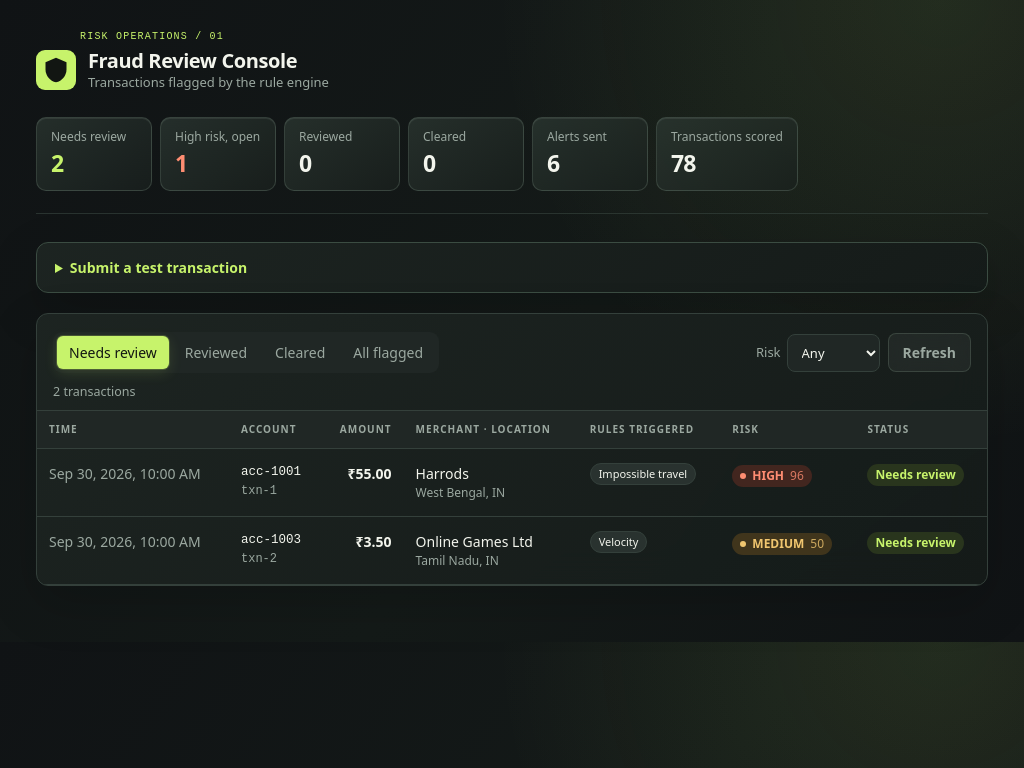
Test: App › submits a test transaction and reports the verdict
Expected: the text "Harrods" is shown, [416, 464, 469, 483]
Click the heading "Submit a test transaction". click: (158, 268)
box: [70, 258, 247, 277]
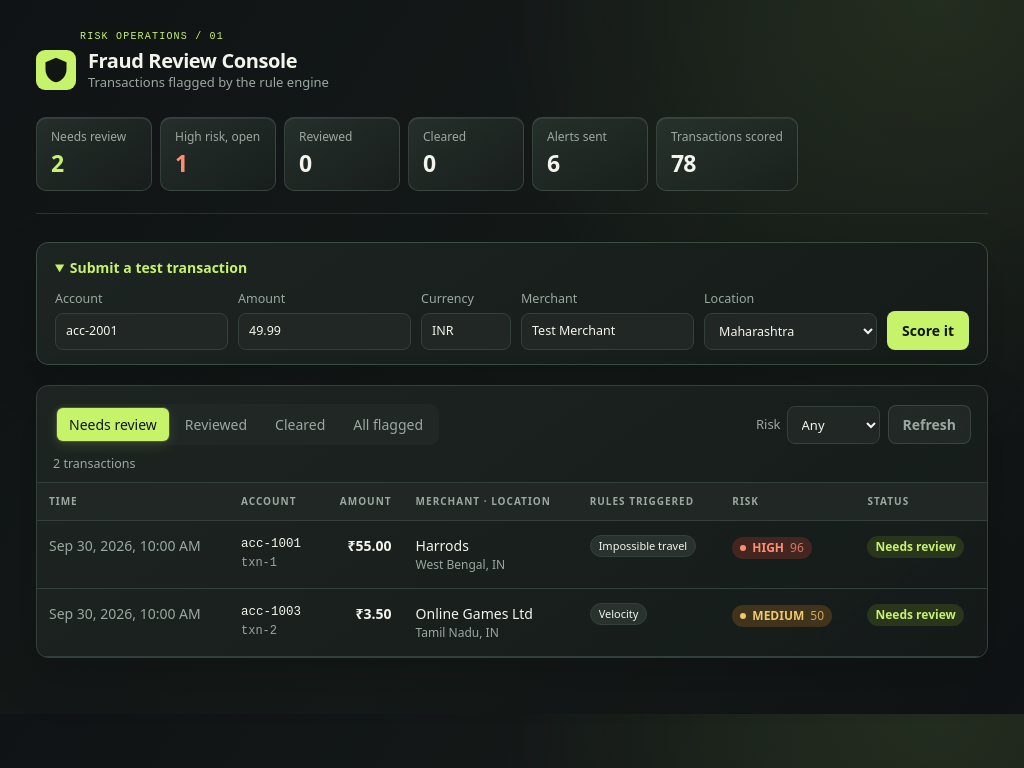
Replace the text in the number field labelled "Amount" with "15000". click: (324, 331)
box: [238, 313, 411, 350]
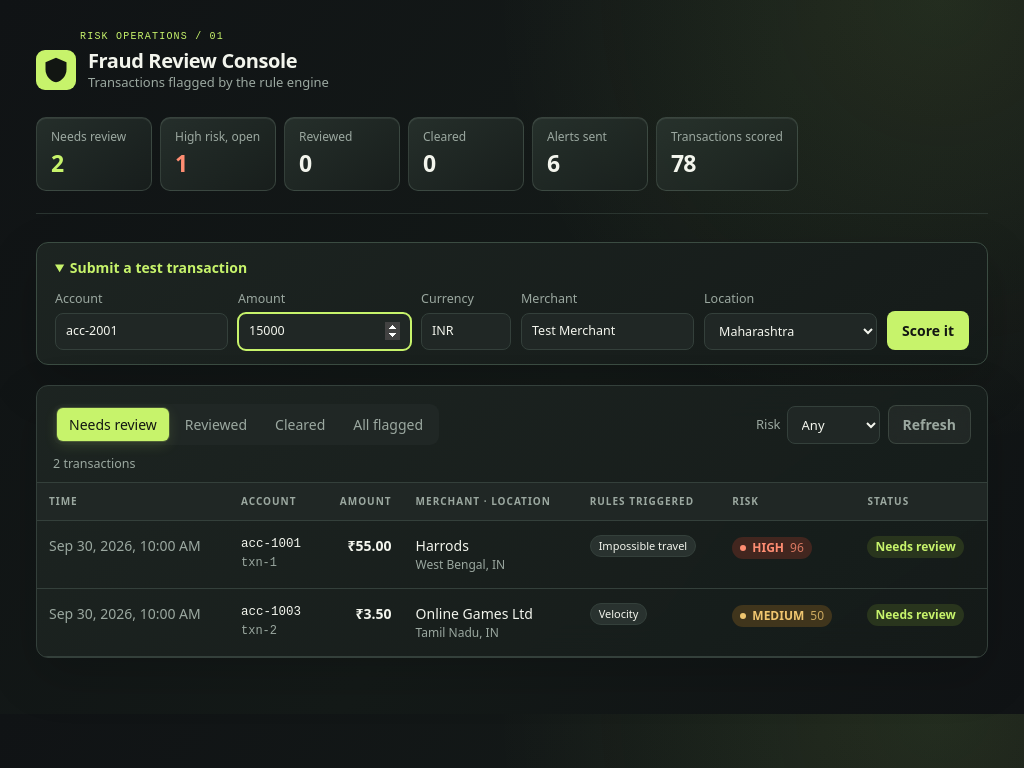
Select "West Bengal" in the dropdown labelled "Location". click: (790, 331)
box: [704, 313, 877, 350]
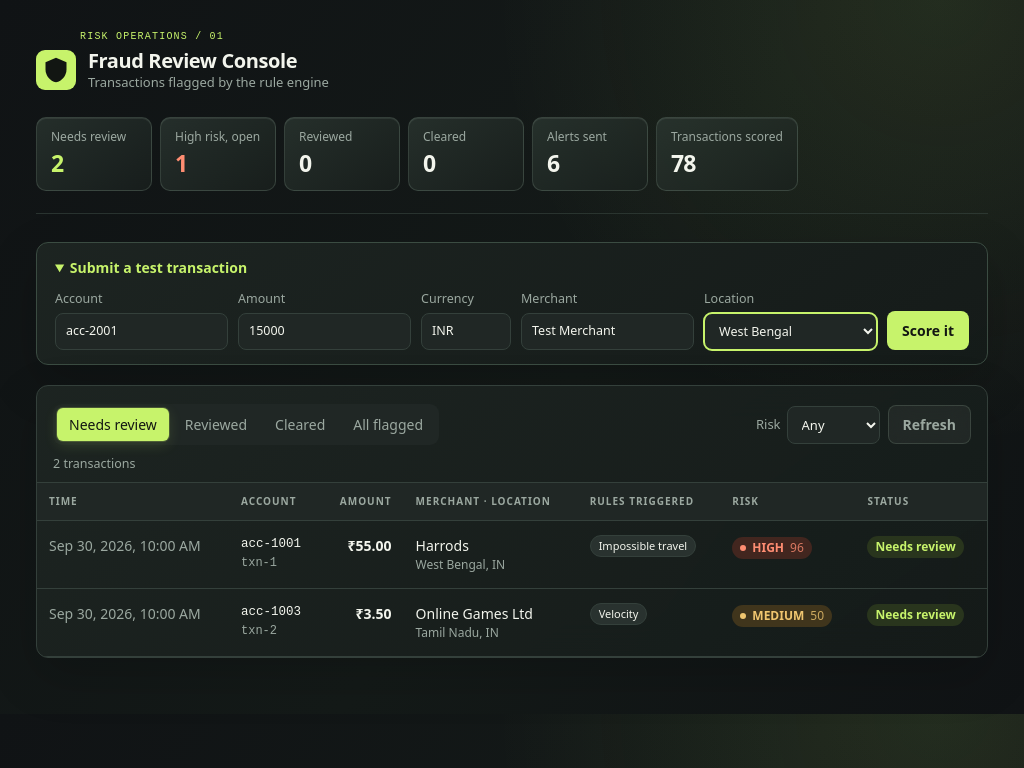
Click the button "Score it". click: (928, 330)
box: [887, 311, 969, 350]
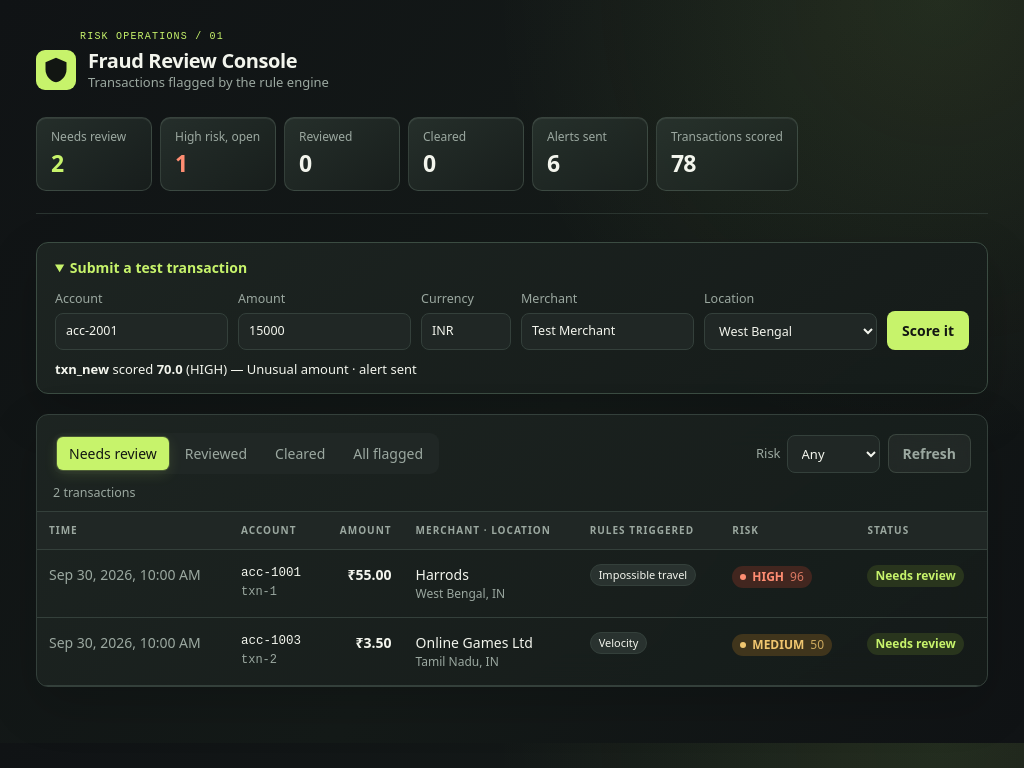
Result: the message reads "txn_new scored 70.0 (HIGH) — Unusual amount · alert sent" at [55, 360, 417, 378]
